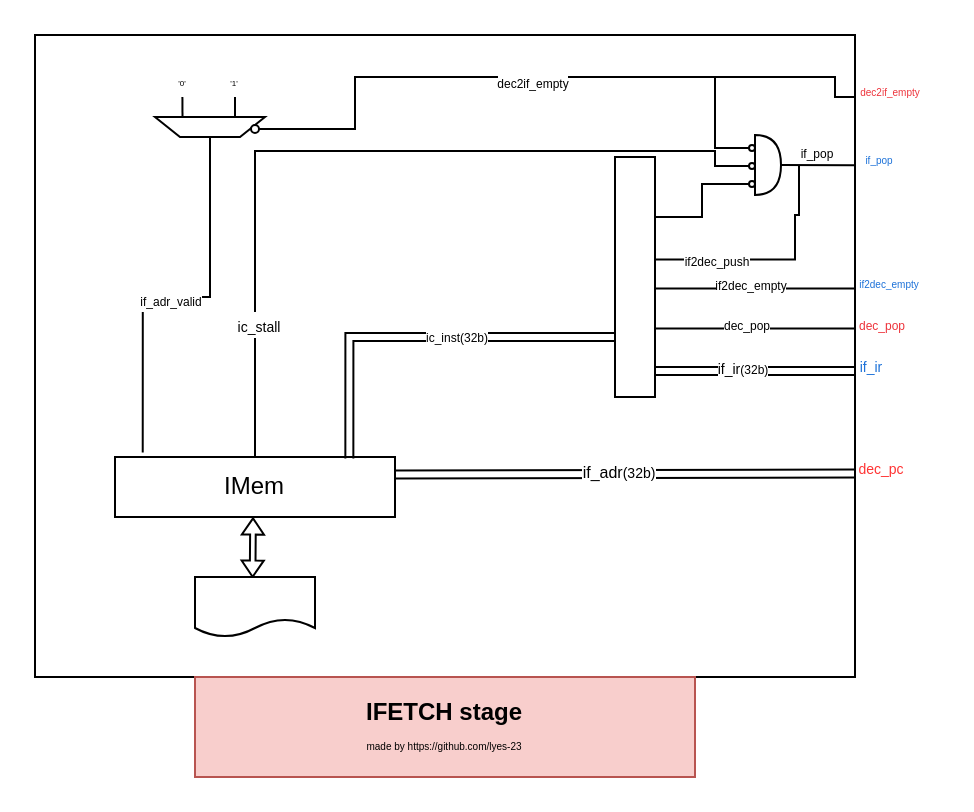
Image size: 974x812. Some labels were removed from this diagram. Here are the shapes that lost their labels. From the top down, the box of each, then its label:
(613, 155, 655, 397): f i f o
(193, 575, 315, 637): imm_test.txt
